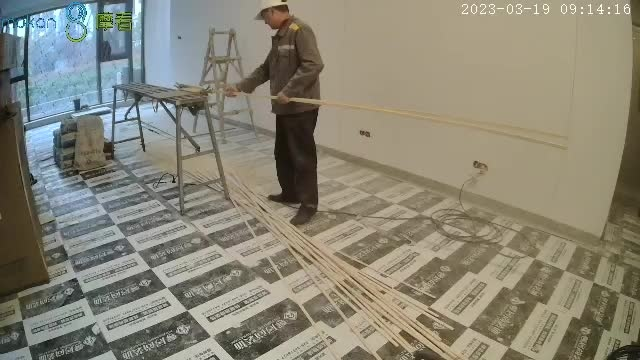people: (225, 1, 323, 227)
window: (1, 2, 143, 119)
